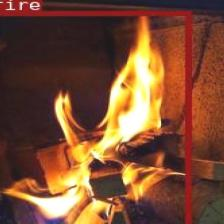fire: (0, 10, 189, 224)
